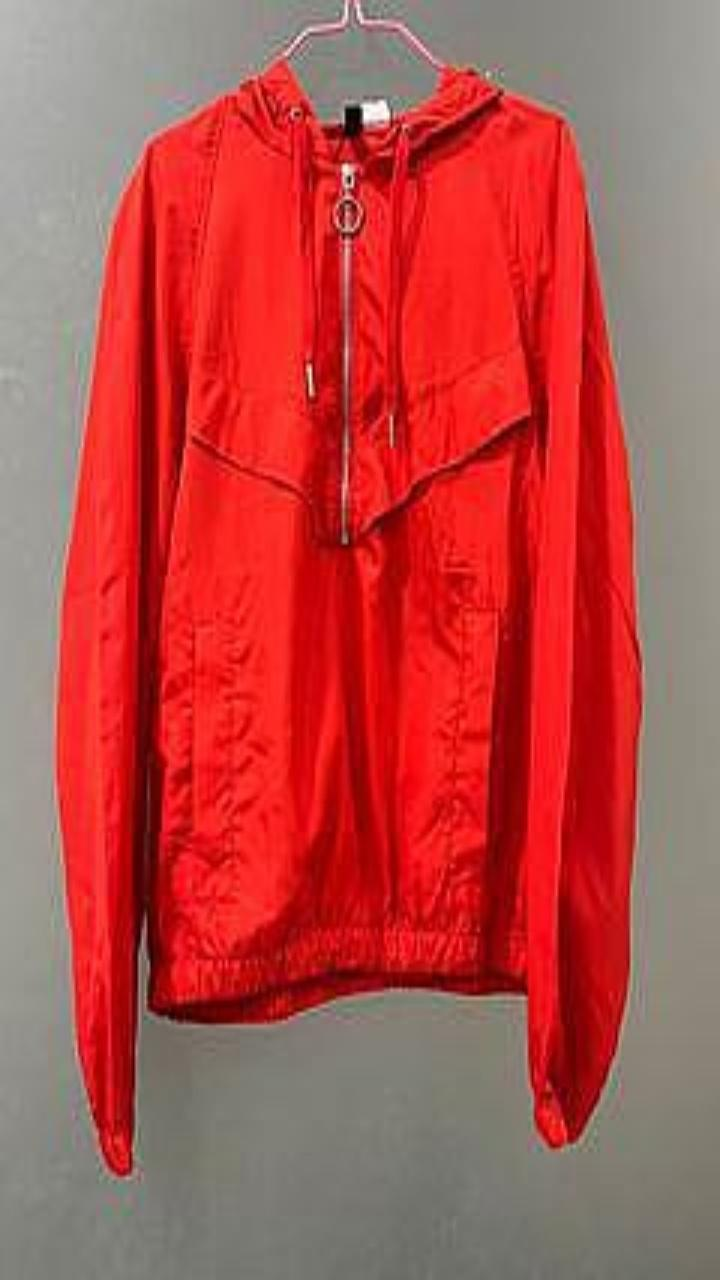Sports_Jacket: (56, 55, 641, 1174)
